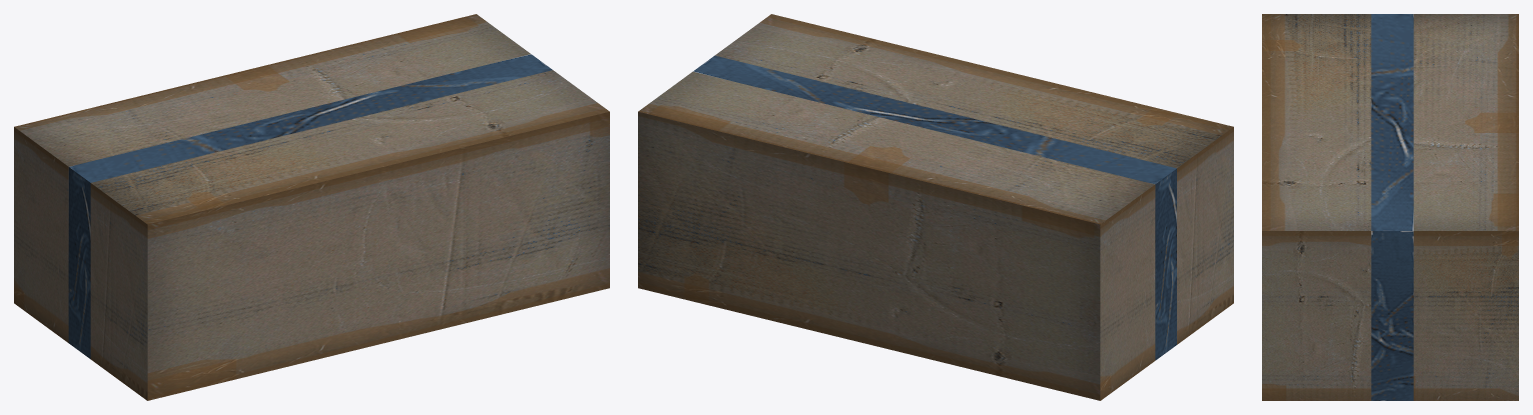
Rendered from CardboardBoxClosed3_SM.fbx.
3 renders of one model, left to right at view 1: azimuth 30°, elevation 25°; view 2: azimuth 150°, elevation 25°; view 3: azimuth 270°, elevation 25°, orthographic. The views are drawn at different scales.
Visible parts, largest first — view 1: Box012; view 2: Box012; view 3: Box012.
Boxes of the visible parts, x1,y1,x2,y2 form: Box012: [14, 14, 609, 400]; Box012: [638, 14, 1233, 400]; Box012: [1262, 14, 1518, 400].
Bounding box in the file's own units: 107 × 38.95 × 53.37.
